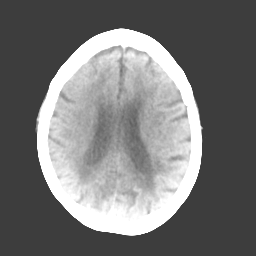ischemic: (47, 68, 96, 141)
